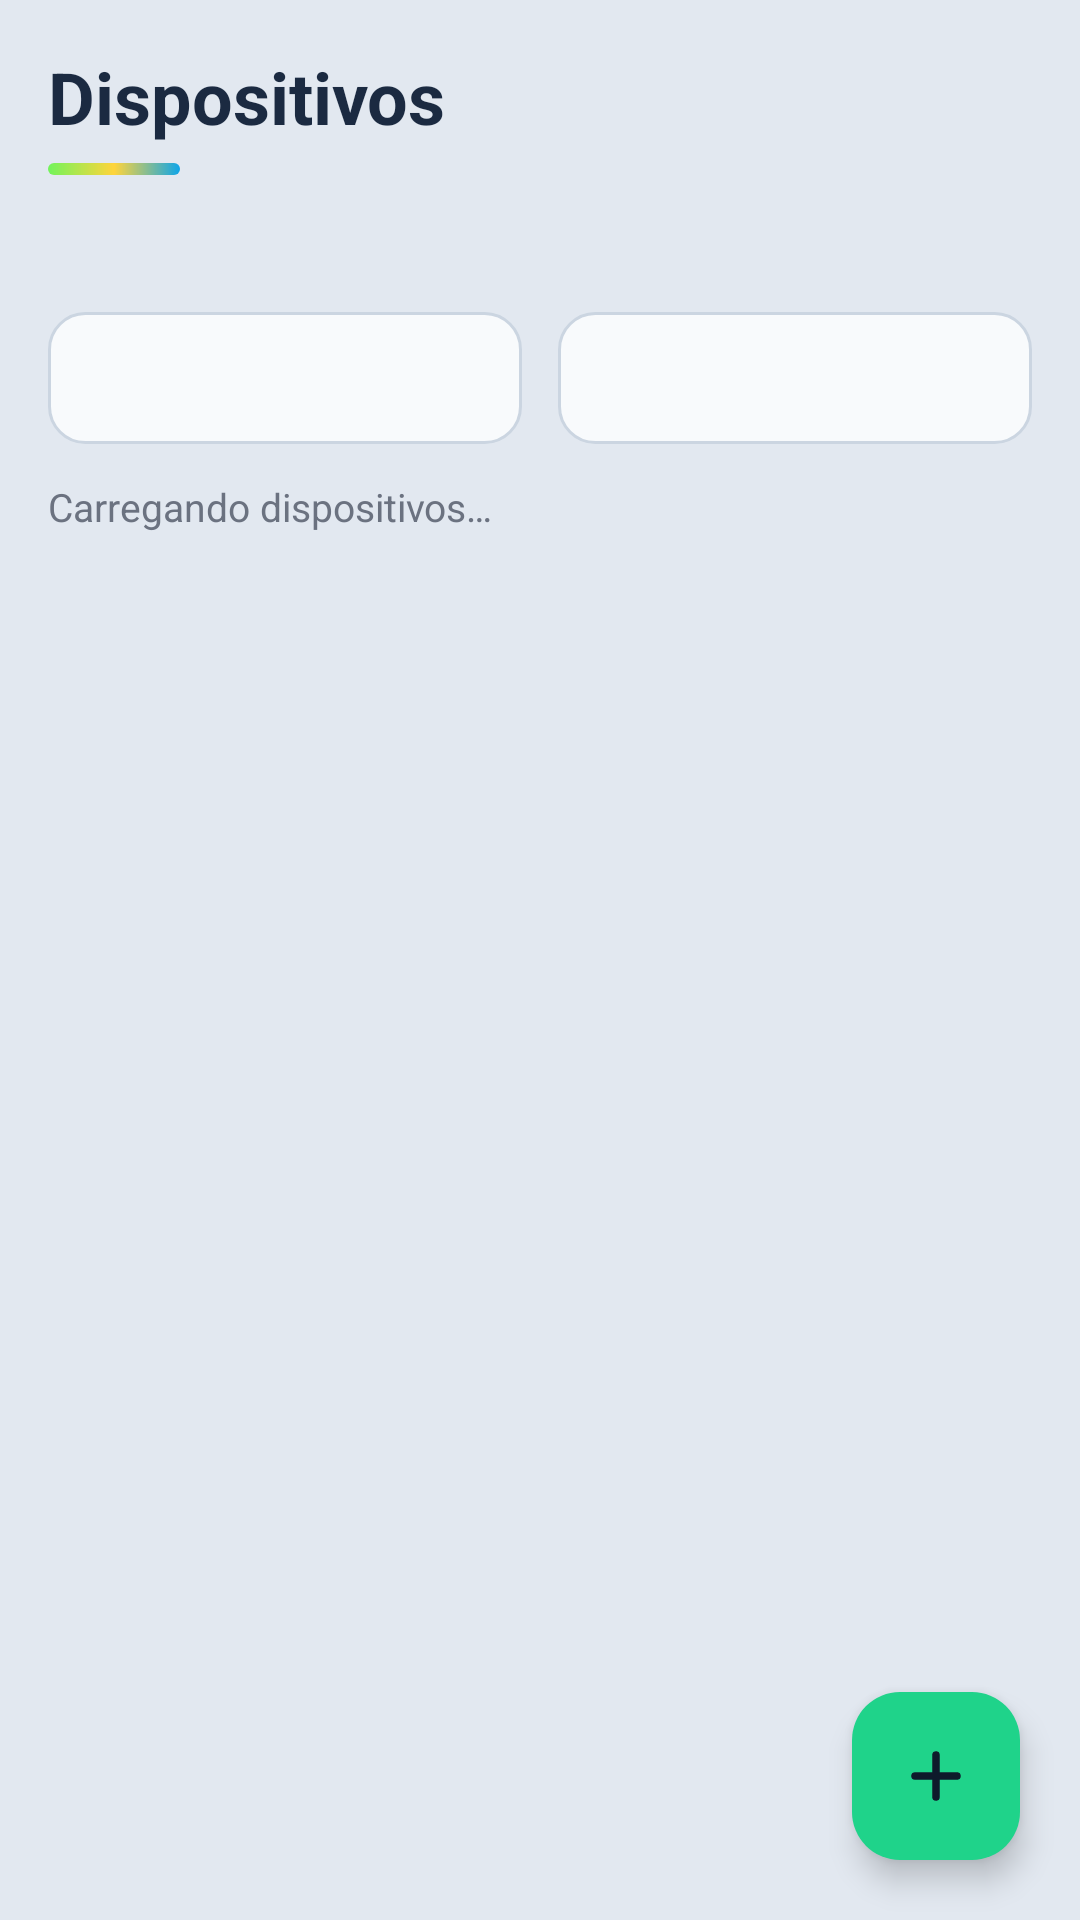

Named icons in this screenshot (1080 × 1920) and their centers, (x,y):
Adicionar dispositivo: (936,1776)
